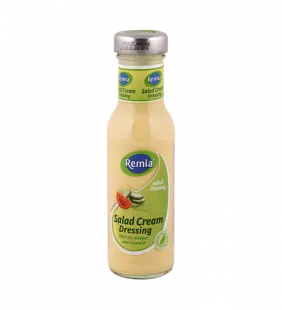REMIA: (99, 20, 181, 284)
